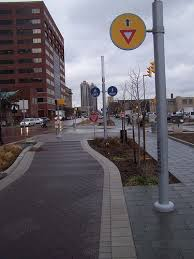yield_sign: (109, 13, 146, 49)
